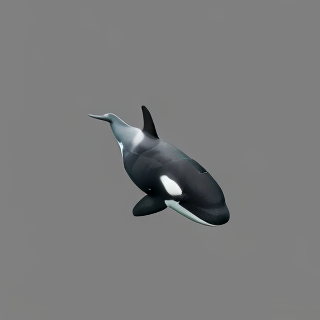Orca whale: (88, 103, 232, 227)
